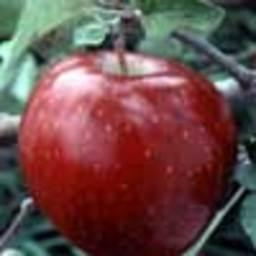apple: (18, 57, 238, 250)
